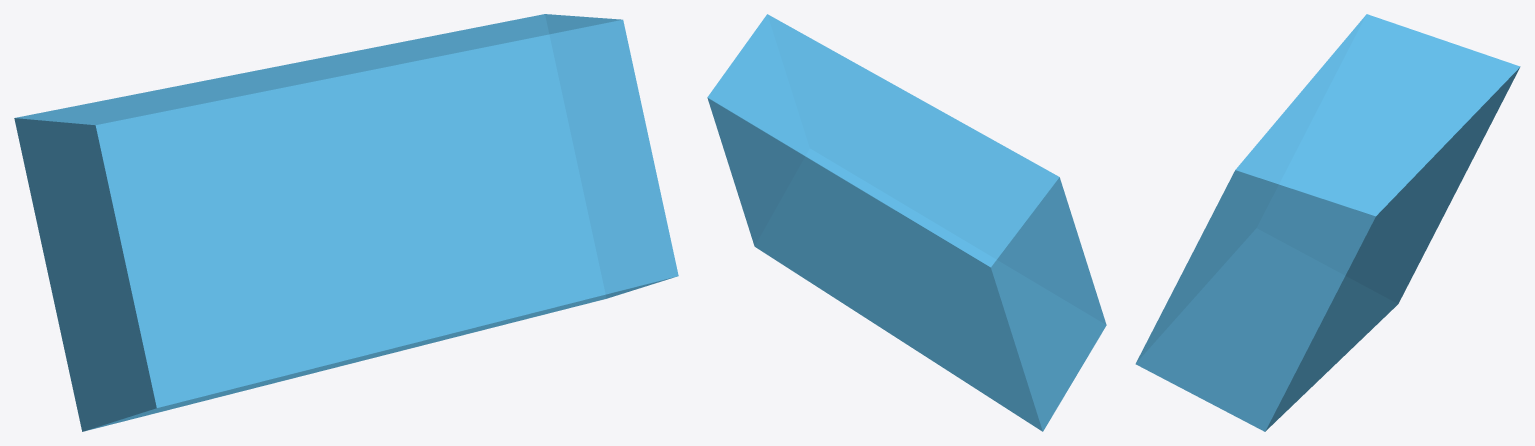
Rendered from Event_421127236_HErechit_27.fbx.
The picture shows the model from 3 angles, left to right: view 1: azimuth 30°, elevation 25°; view 2: azimuth 150°, elevation 25°; view 3: azimuth 270°, elevation 25°; orthographic projection. The views are drawn at different scales.
Visible parts, largest first — view 1: Model; view 2: Model; view 3: Model.
Part boxes in pixels (x1,y1,x2,y2): Model: (14,14,678,431); Model: (707,14,1106,431); Model: (1135,14,1520,431).
Bounding box in the file's own units: 1.14 × 0.887 × 0.9337.
